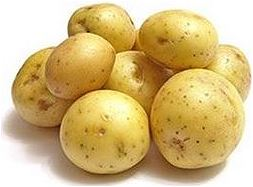Potato: (150, 65, 246, 171), (59, 91, 150, 177), (40, 31, 118, 104), (139, 10, 221, 69)
